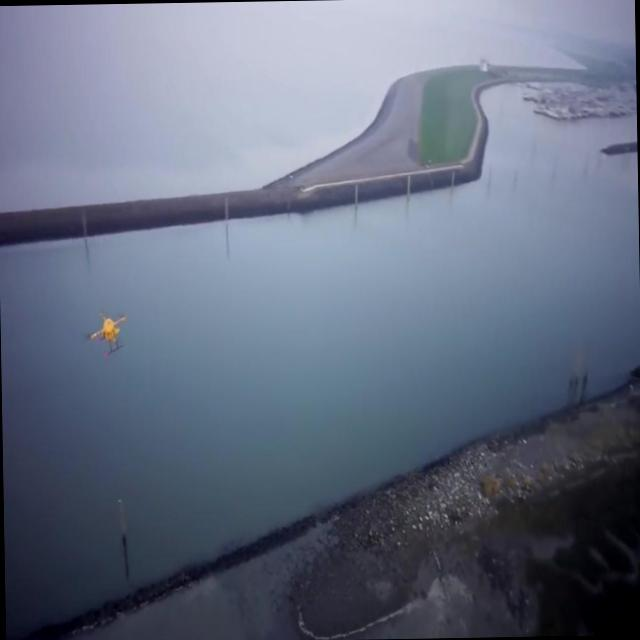drone: (85, 304, 132, 362)
